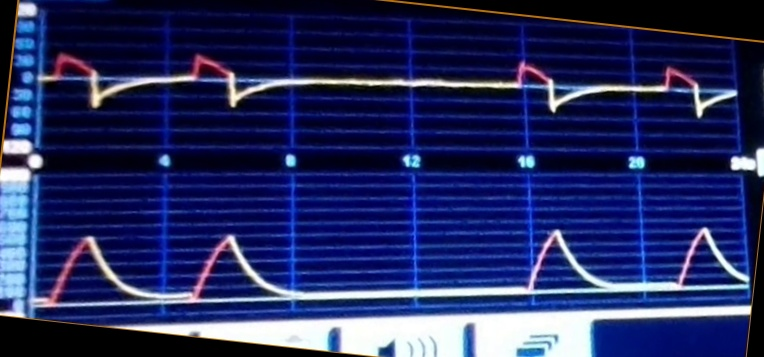Normal Flow: (43, 39, 734, 138)
Normal Volume: (40, 213, 747, 305)
